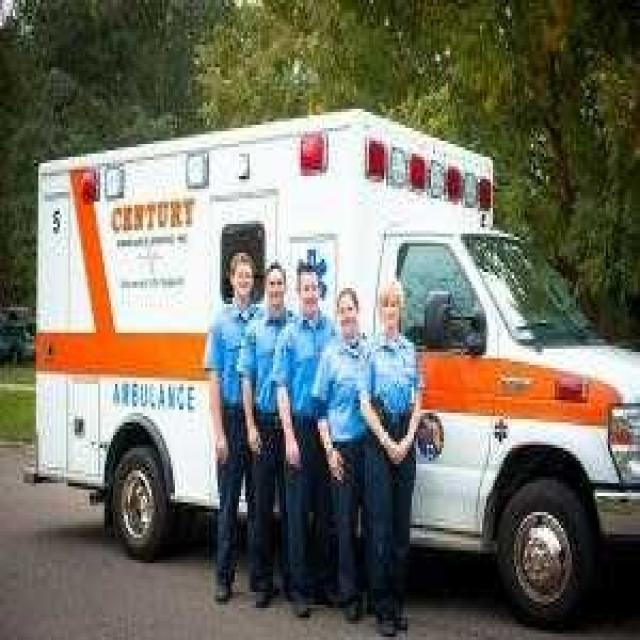ambulance: (29, 126, 640, 569)
